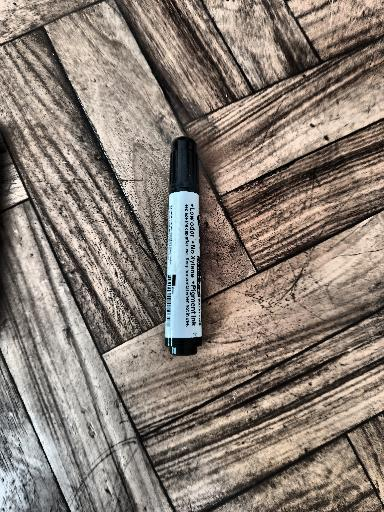marcador negro: (165, 136, 202, 356)
